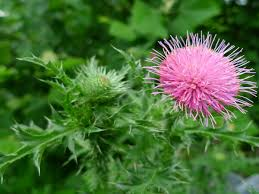bull thistle: (141, 28, 258, 150)
